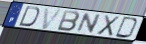B: (56, 9, 81, 32)
D: (114, 16, 140, 40), (18, 5, 41, 28)
N: (75, 13, 103, 35)
V: (41, 7, 65, 30)
X: (95, 15, 121, 38)
